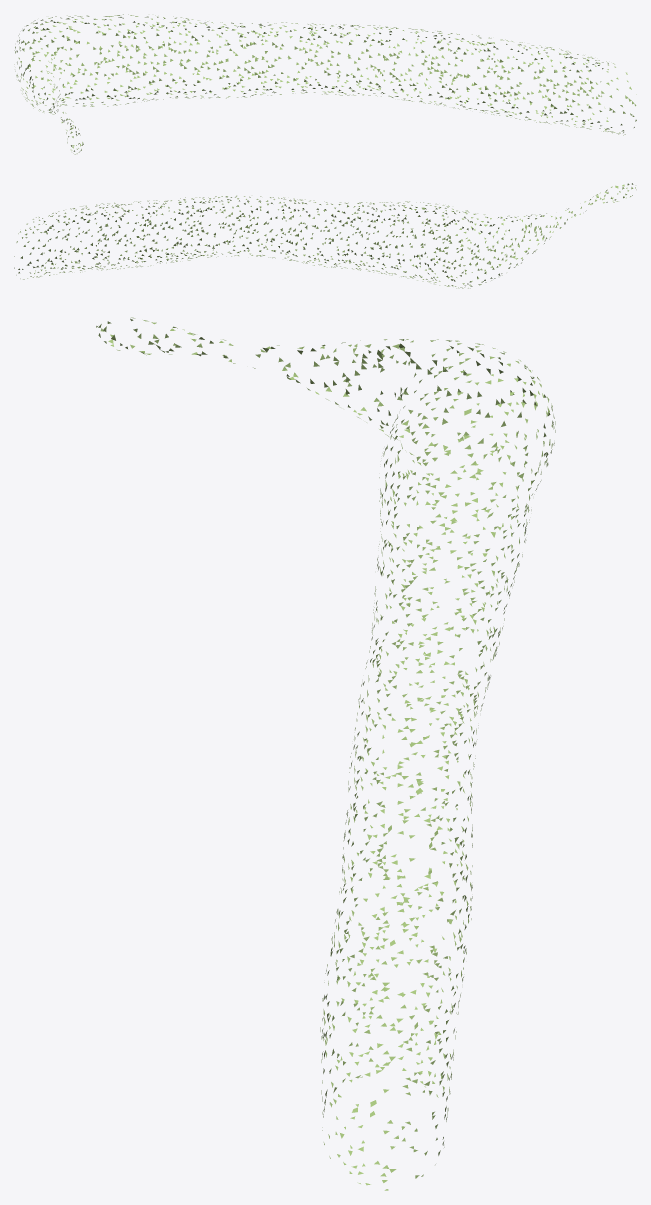
Rendered from morph_012.glb.
3 renders of one model, top to bottom at view 1: azimuth 30°, elevation 25°; view 2: azimuth 150°, elevation 25°; view 3: azimuth 270°, elevation 25°, orthographic. The views are drawn at different scales.
Bounding box in the file's own units: 138 × 46.77 × 50.83.
